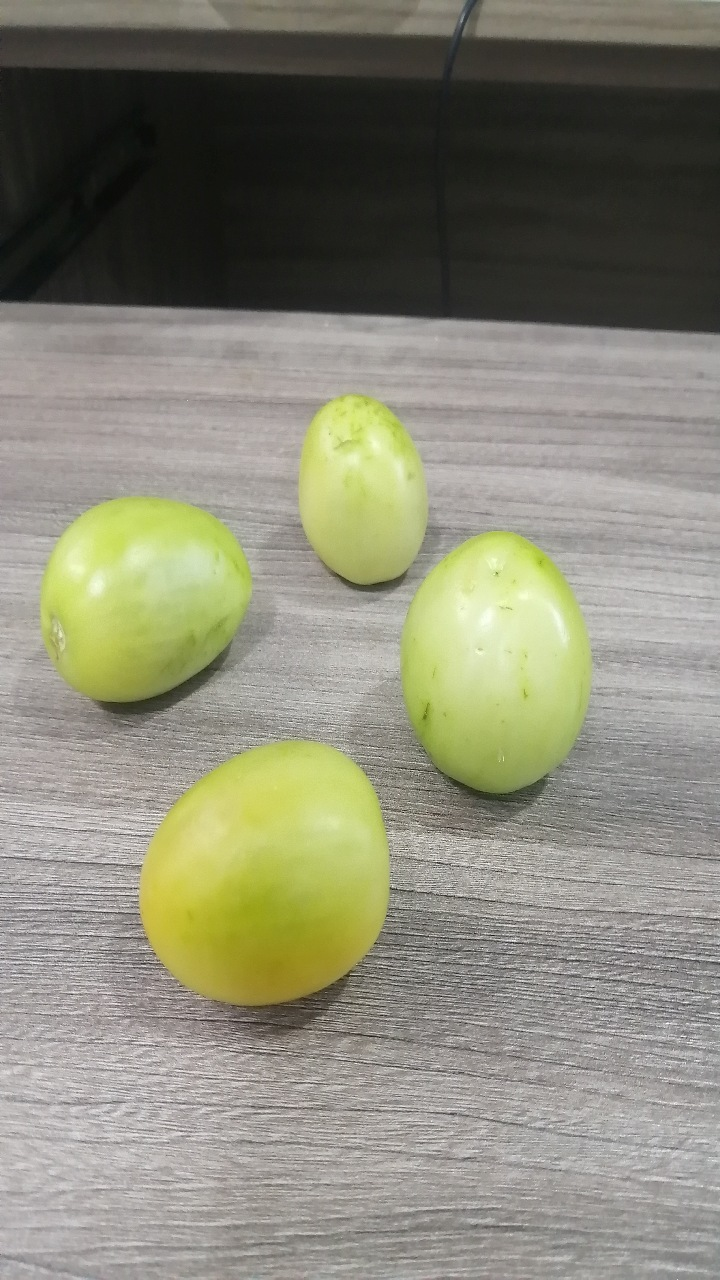tomateVerde: (108, 726, 420, 1006), (384, 509, 628, 825), (38, 472, 255, 719), (271, 359, 444, 589)
